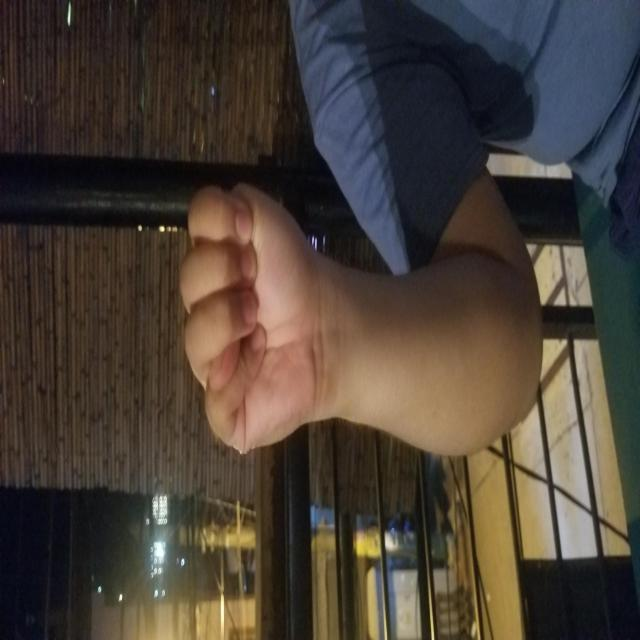M: (132, 155, 404, 481)
